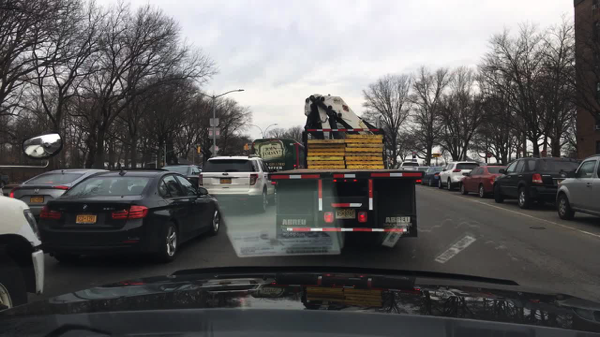bus: (250, 138, 304, 173)
car: (37, 166, 222, 264), (8, 169, 109, 222), (197, 155, 277, 214), (491, 157, 580, 209), (554, 154, 599, 218), (460, 163, 507, 196), (436, 160, 478, 191), (161, 165, 202, 187), (418, 166, 442, 186), (396, 158, 418, 172), (0, 183, 21, 195), (0, 171, 10, 190), (414, 166, 430, 173)
traffic light: (196, 145, 201, 153), (243, 144, 246, 150), (246, 145, 249, 150)
traffic sign: (208, 127, 220, 138), (207, 145, 219, 154), (209, 118, 219, 127), (539, 150, 546, 156), (431, 153, 440, 157), (486, 152, 491, 157)
truck: (266, 94, 417, 242), (0, 132, 64, 309)
